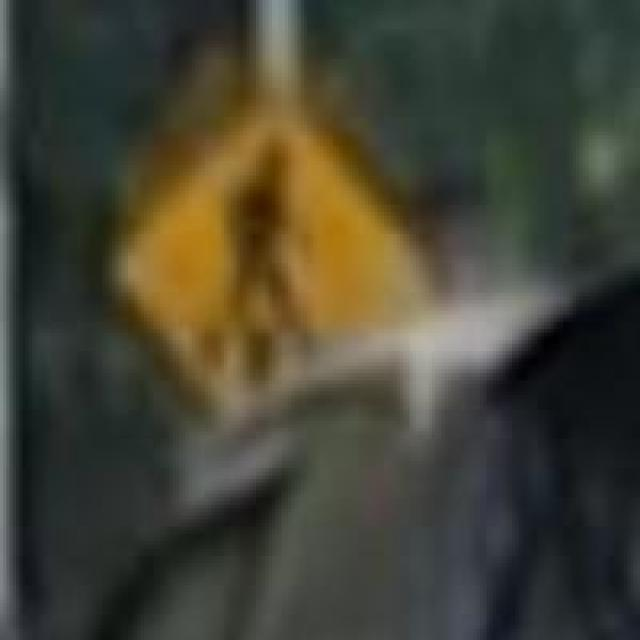traffic sign: (122, 106, 340, 366)
